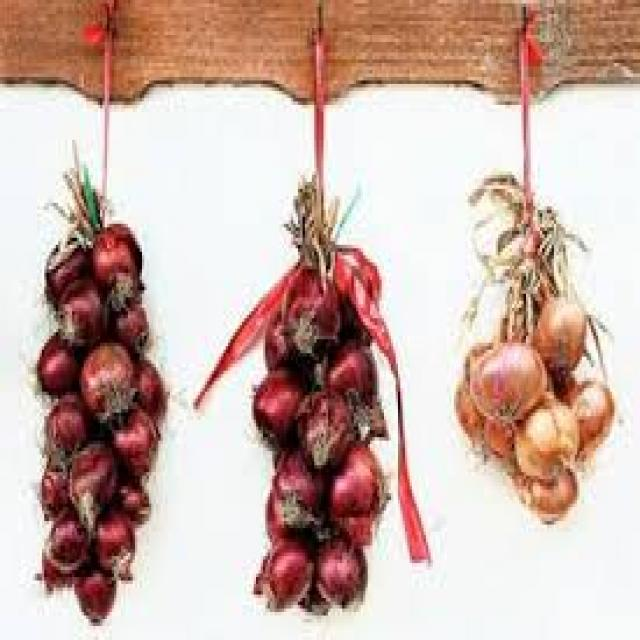organic waste: (42, 150, 137, 301), (321, 434, 389, 542), (526, 276, 586, 374), (514, 388, 575, 479), (279, 256, 340, 346), (468, 342, 540, 412), (291, 388, 351, 469), (68, 437, 119, 532), (270, 441, 323, 532), (76, 336, 132, 420), (251, 535, 312, 609), (559, 367, 612, 451), (102, 399, 156, 479), (312, 521, 363, 605), (330, 245, 374, 339), (37, 510, 86, 594), (514, 451, 575, 518), (252, 360, 302, 441), (260, 483, 324, 542), (98, 276, 149, 350), (54, 273, 107, 343), (314, 339, 372, 402), (40, 224, 86, 301), (90, 500, 132, 581), (30, 322, 77, 392), (126, 346, 165, 427), (38, 388, 88, 451), (263, 301, 300, 374), (72, 556, 112, 623), (454, 378, 491, 444), (458, 336, 496, 395), (107, 476, 149, 518), (482, 409, 519, 455), (40, 455, 68, 514), (349, 392, 384, 434), (300, 580, 326, 616)
